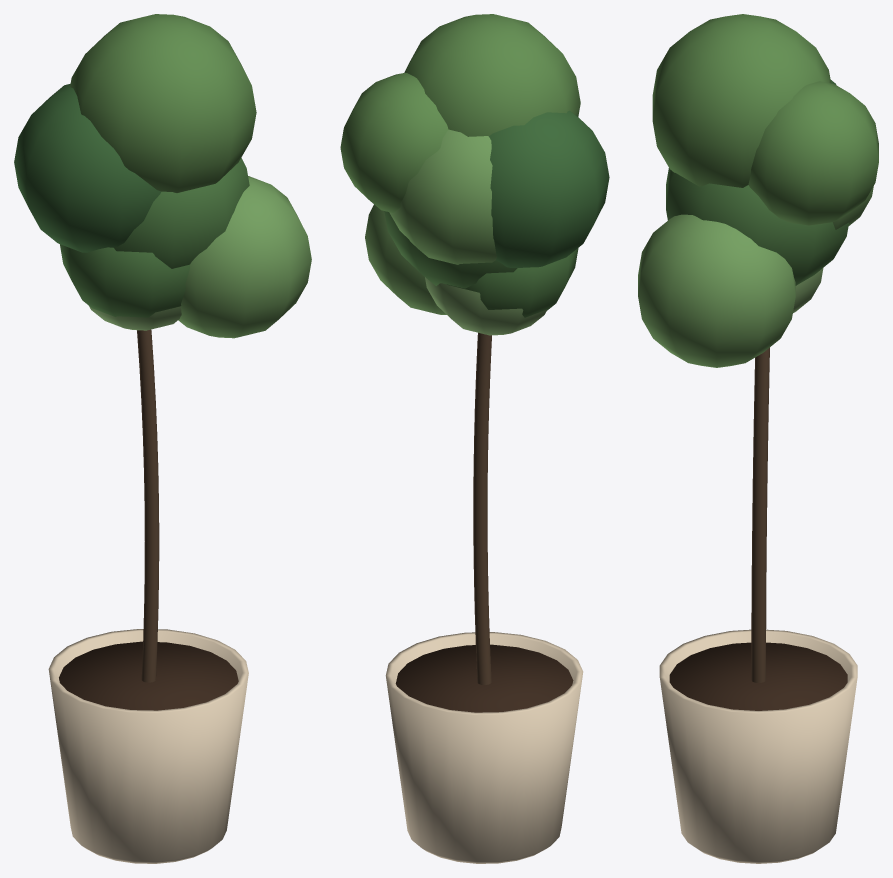
The model's file is i_plant_5.glb.
The picture shows the model from 3 angles, left to right: view 1: azimuth 30°, elevation 25°; view 2: azimuth 150°, elevation 25°; view 3: azimuth 270°, elevation 25°; orthographic projection.
Visible parts, largest first — view 1: o, o.009, o.006, o.010, o.001, o.008, o.003, o.002, o.007; view 2: o, o.006, o.009, o.005, o.004, o.001, o.002, o.008, o.010, o.007, o.003; view 3: o, o.009, o.010, o.004, o.001, o.003, o.002, o.007.
Boxes of the visible parts, x1,y1,x2,y2 form: o: (48, 629, 248, 863); o.009: (70, 14, 256, 192); o.006: (14, 83, 160, 252); o.010: (178, 176, 311, 338); o.001: (59, 641, 238, 710); o.008: (60, 244, 189, 317); o.003: (114, 158, 249, 268); o.002: (137, 329, 159, 682); o.007: (89, 306, 181, 330); o: (385, 632, 583, 863); o.006: (489, 110, 609, 267); o.009: (404, 14, 580, 136); o.005: (389, 129, 496, 264); o.004: (340, 73, 448, 212); o.001: (395, 644, 573, 712); o.002: (473, 332, 491, 684); o.008: (447, 248, 578, 317); o.010: (365, 204, 446, 314); o.007: (425, 277, 547, 335); o.003: (384, 211, 517, 288); o: (659, 629, 857, 863); o.009: (652, 14, 830, 187); o.010: (638, 214, 795, 367); o.004: (748, 81, 878, 225); o.001: (669, 642, 847, 710); o.003: (666, 168, 848, 285); o.002: (751, 347, 769, 682); o.007: (793, 268, 823, 312).
Size of the model in its own units: 0.5486 by 1.71 by 0.4579.
